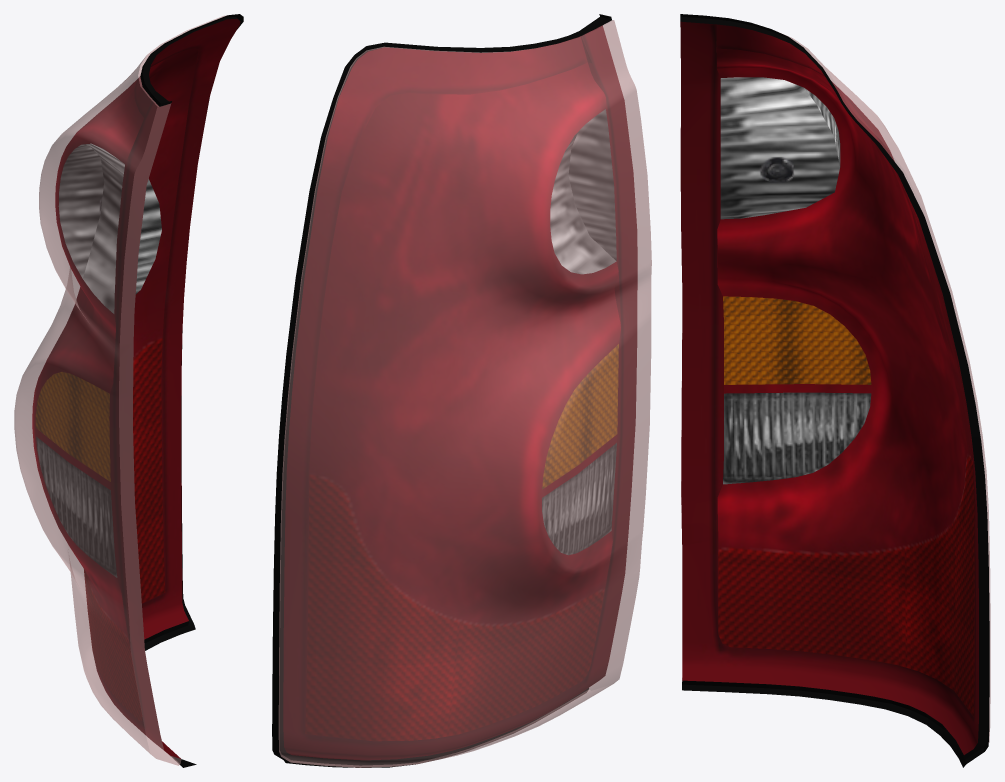
3 views of the same model, side by side, from view 1: azimuth 30°, elevation 25°; view 2: azimuth 150°, elevation 25°; view 3: azimuth 270°, elevation 25° (orthographic). The views are drawn at different scales.
Visible parts, largest first — view 1: U803_1A_541C_L_U803_1A_541C_L_2_N, U803_1A_541C_L_1_DTaSI_U803_1A_541C_L, U803_1A_541C_L_U803_1A_541C_L_3_D; view 2: U803_1A_541C_L_1_DTaSI_U803_1A_541C_L, U803_1A_541C_L_U803_1A_541C_L_2_N, U803_1A_541C_L_U803_1A_541C_L_3_D; view 3: U803_1A_541C_L_U803_1A_541C_L_2_N, U803_1A_541C_L_U803_1A_541C_L_3_D, U803_1A_541C_L_1_DTaSI_U803_1A_541C_L.
Part boxes in pixels (x1,y1,x2,y2): U803_1A_541C_L_U803_1A_541C_L_2_N: (32, 18, 240, 758); U803_1A_541C_L_1_DTaSI_U803_1A_541C_L: (14, 15, 226, 765); U803_1A_541C_L_U803_1A_541C_L_3_D: (140, 14, 243, 767); U803_1A_541C_L_1_DTaSI_U803_1A_541C_L: (278, 20, 651, 767); U803_1A_541C_L_U803_1A_541C_L_2_N: (283, 25, 637, 760); U803_1A_541C_L_U803_1A_541C_L_3_D: (272, 14, 611, 767); U803_1A_541C_L_U803_1A_541C_L_2_N: (680, 21, 978, 754); U803_1A_541C_L_U803_1A_541C_L_3_D: (680, 14, 989, 767); U803_1A_541C_L_1_DTaSI_U803_1A_541C_L: (680, 31, 990, 742).
Size of the model in its own units: 12.89 by 37.06 by 15.61.
